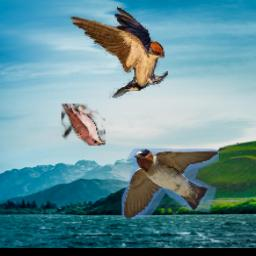Cuckoo: (61, 105, 105, 147)
Swallow: (68, 7, 169, 104), (122, 149, 219, 219)
